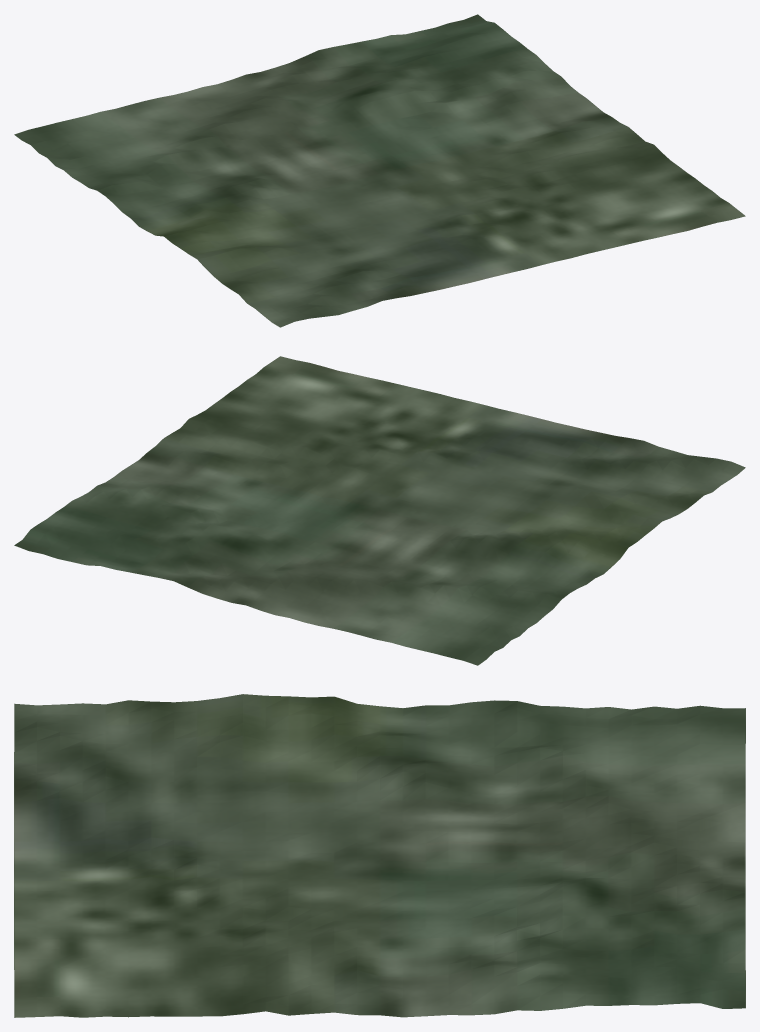
The picture shows the model from 3 angles, top to bottom: view 1: azimuth 30°, elevation 25°; view 2: azimuth 150°, elevation 25°; view 3: azimuth 270°, elevation 25°; orthographic projection. The views are drawn at different scales.
Size of the model in its own units: 31230 by 864 by 31055.
1 material, 1 textured.
